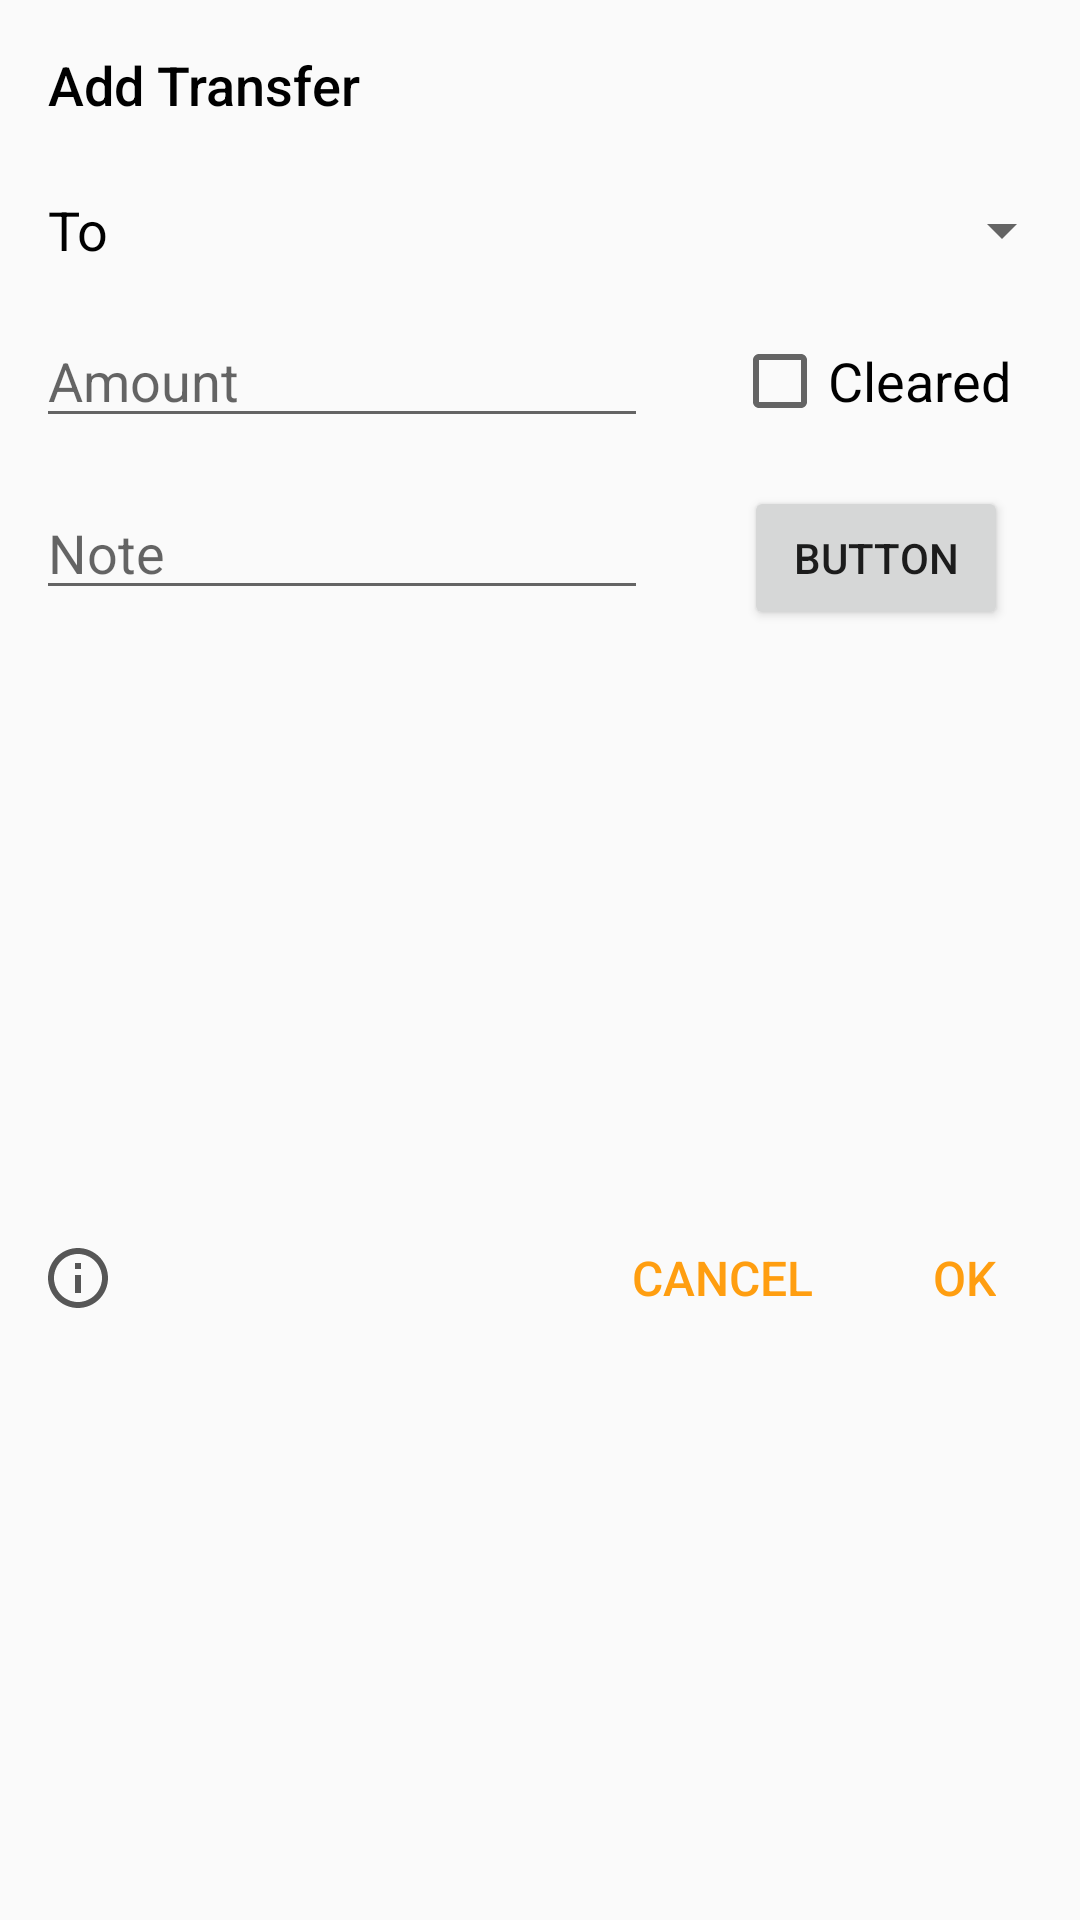

Named icons in this screenshot (1080w x 1920h) and their bounding boxes, (x1, y1, x2, y2):
OK button info: (48, 1248, 108, 1308)
